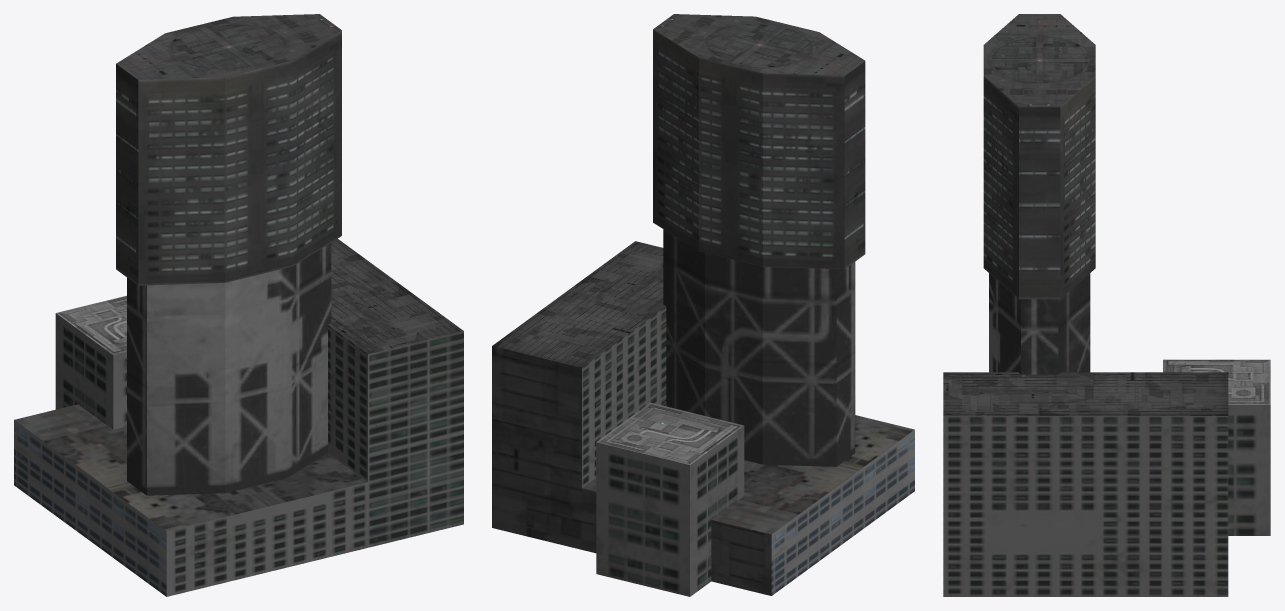
File: scifi_building_40.obj
3 views of the same model, side by side, from view 1: azimuth 30°, elevation 25°; view 2: azimuth 150°, elevation 25°; view 3: azimuth 270°, elevation 25° (orthographic). The views are drawn at different scales.
Parts seen in each view (by area): view 1: building_40; view 2: building_40; view 3: building_40.
Boxes of the visible parts, box(x1,y1,x2,y2) form: building_40: box(14, 14, 463, 596); building_40: box(492, 14, 914, 596); building_40: box(943, 14, 1270, 596).
Size of the model in its own units: 109 by 169 by 111.
Materials: 1 (1 with a texture image).
